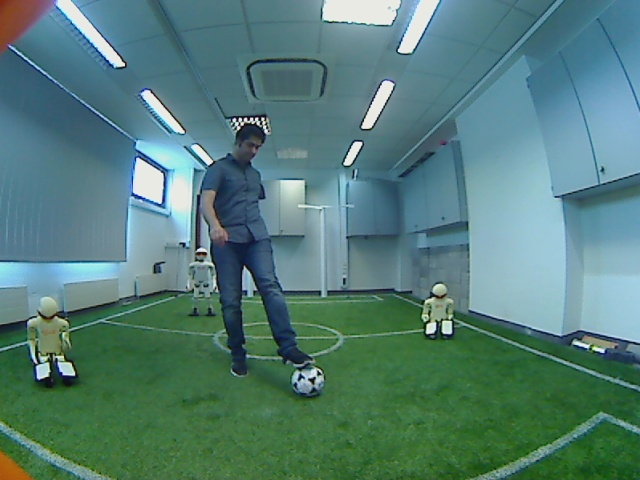ball: (288, 360, 326, 398)
robot: (22, 292, 81, 388), (184, 244, 220, 319), (419, 280, 460, 343)
